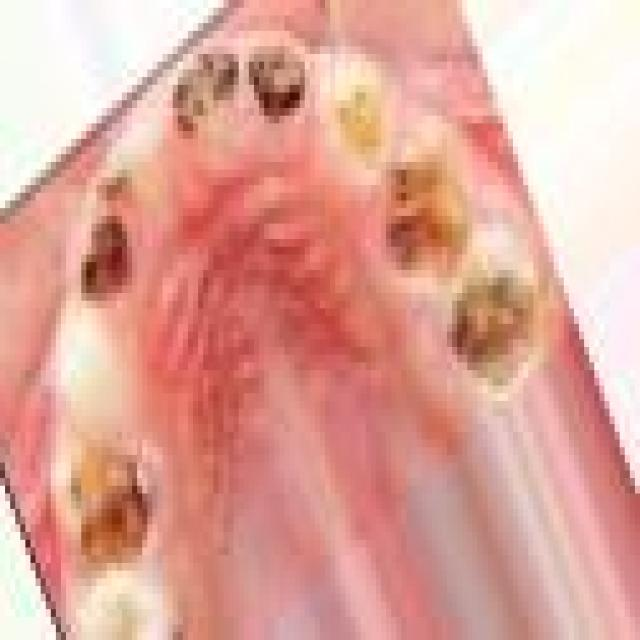caries: (52, 421, 181, 580), (439, 225, 542, 406), (372, 124, 468, 286), (70, 209, 140, 315), (166, 43, 240, 137), (241, 35, 312, 128), (330, 63, 387, 168), (94, 142, 140, 210)
